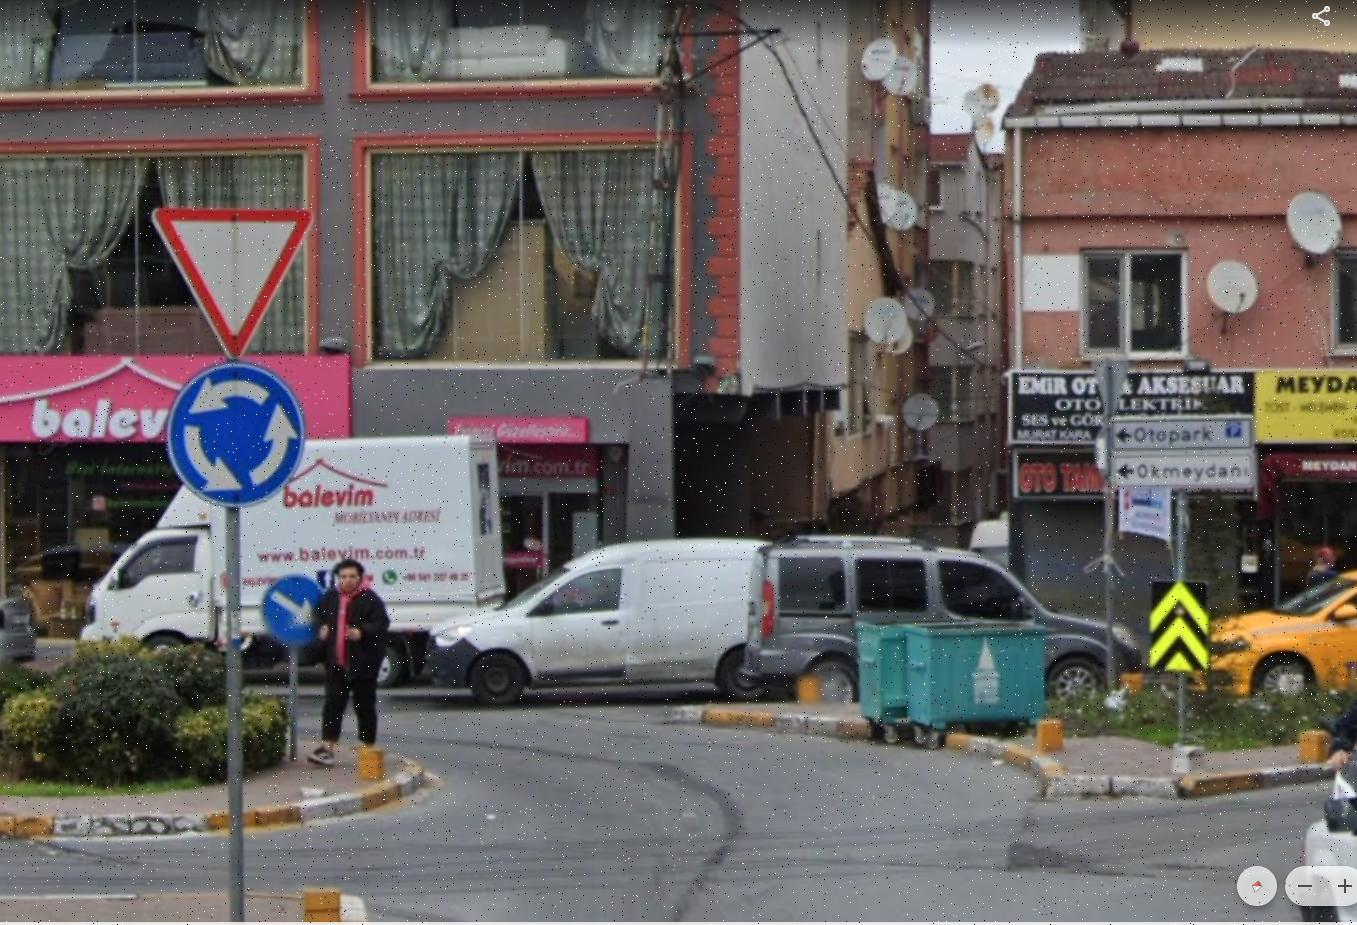crossroads: (162, 362, 311, 510)
